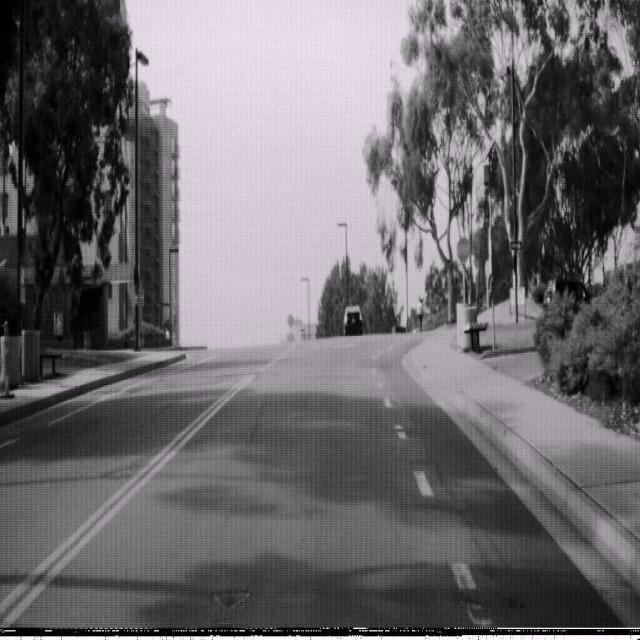stop: (457, 235, 471, 265)
